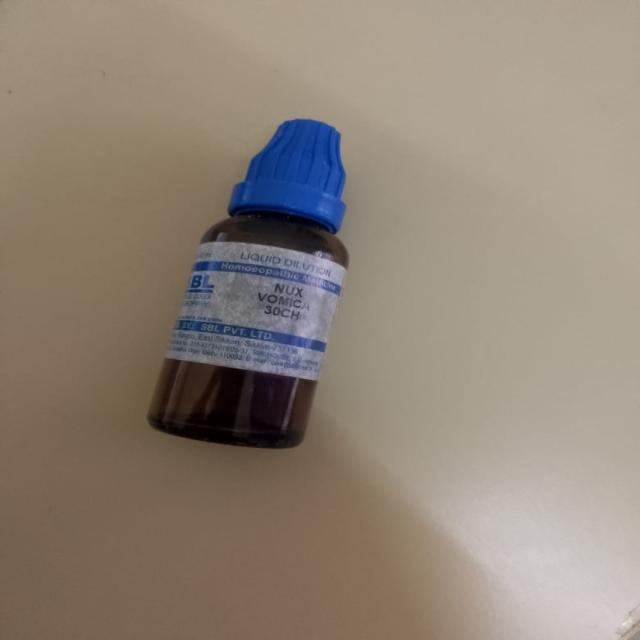medicine: (112, 92, 435, 472)
